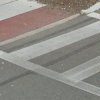crosswalk: (9, 19, 100, 88)
